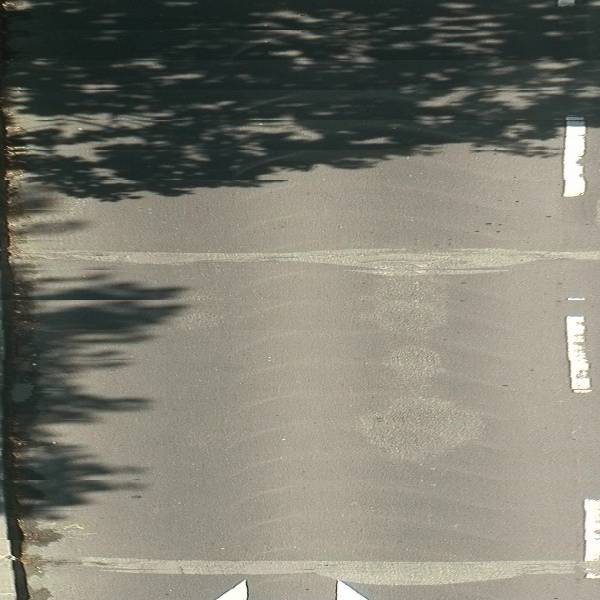road_damage: (74, 546, 599, 591), (73, 240, 600, 282)
